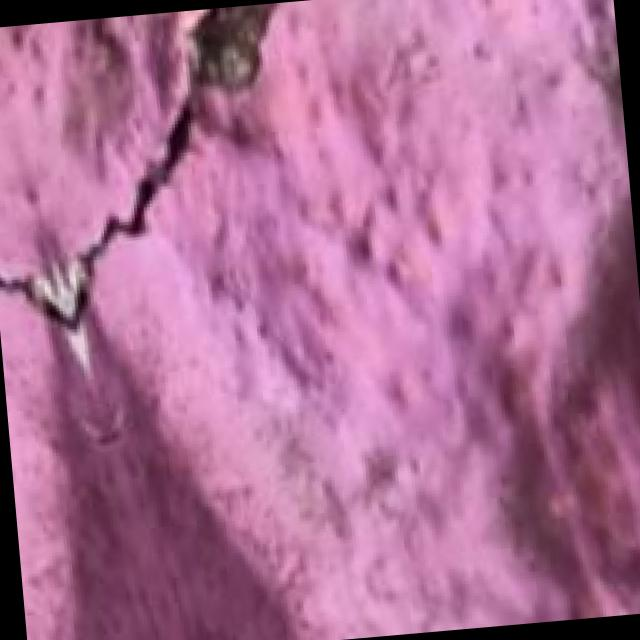crack: (0, 2, 309, 376)
